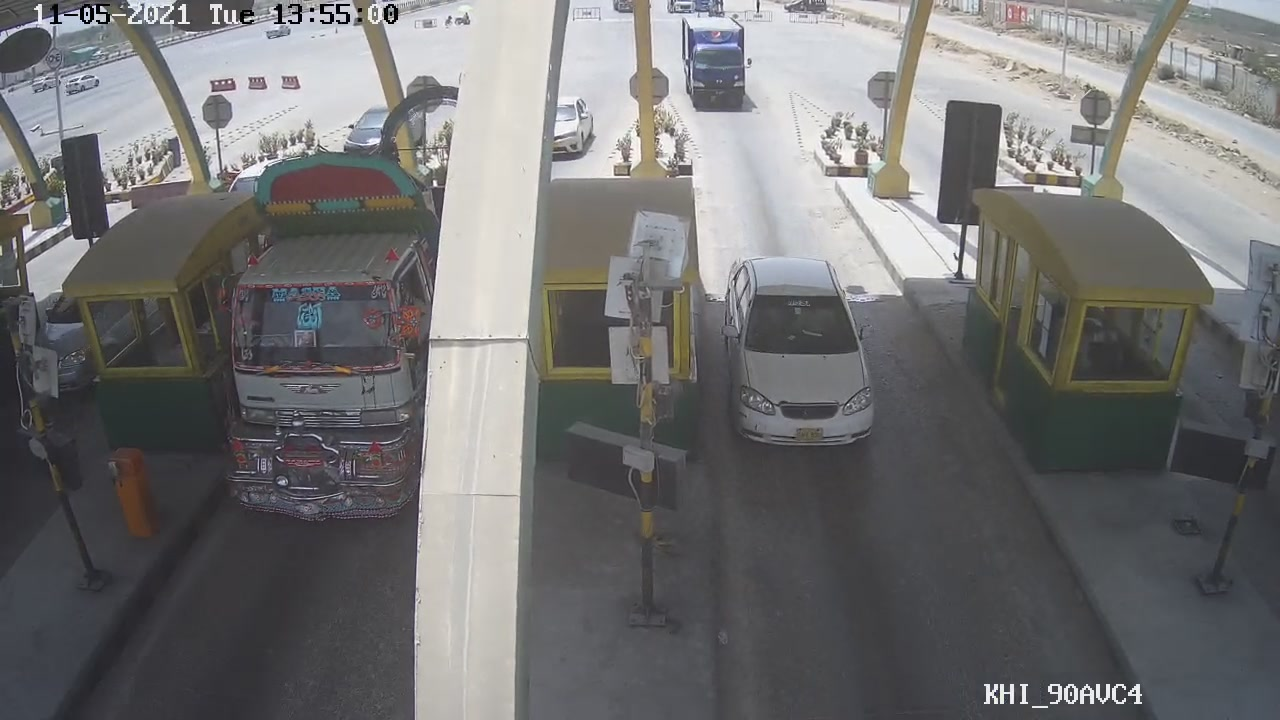F1: (712, 250, 881, 456)
